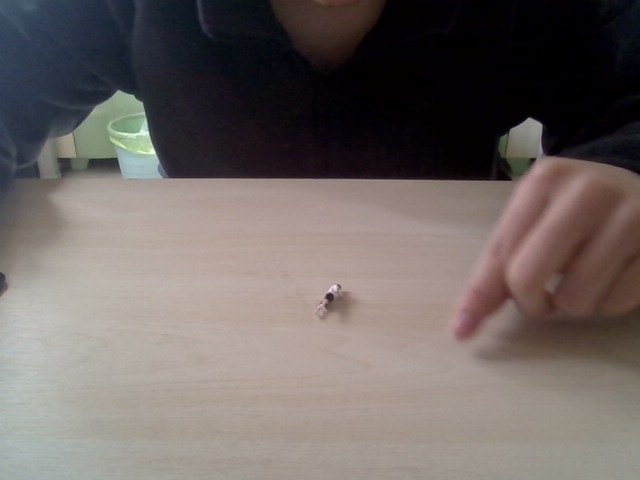fall: (310, 280, 347, 322)
